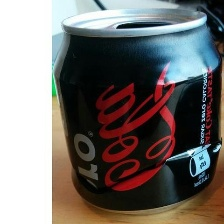can: (51, 5, 223, 215)
